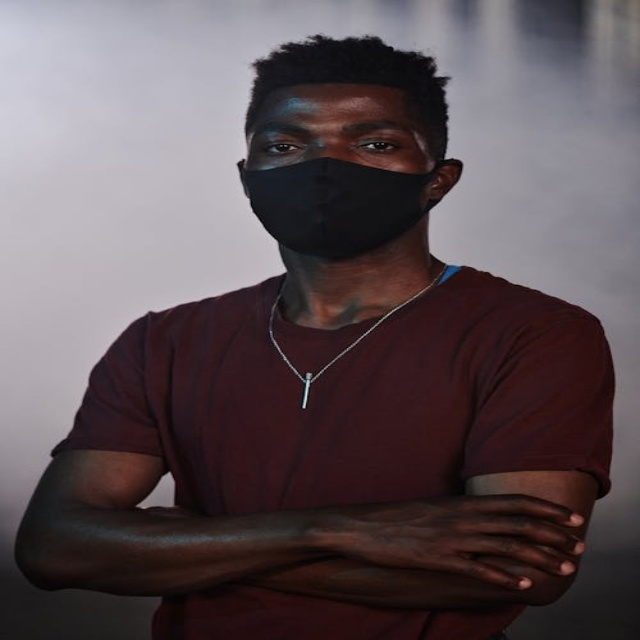Mascara: (241, 155, 442, 256)
Sin_gafas: (247, 118, 403, 158)
Sin_guantes: (290, 489, 591, 605)
